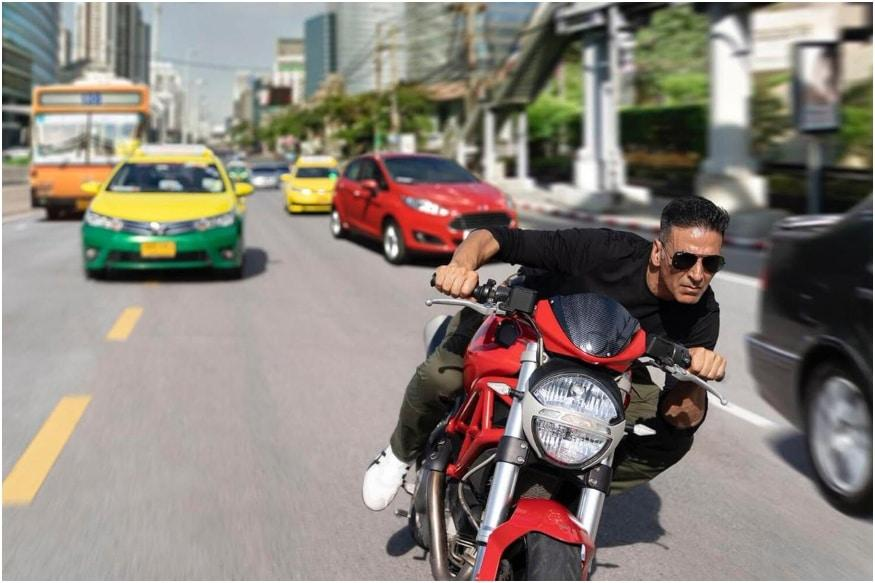nohelmet: (653, 184, 743, 310)
